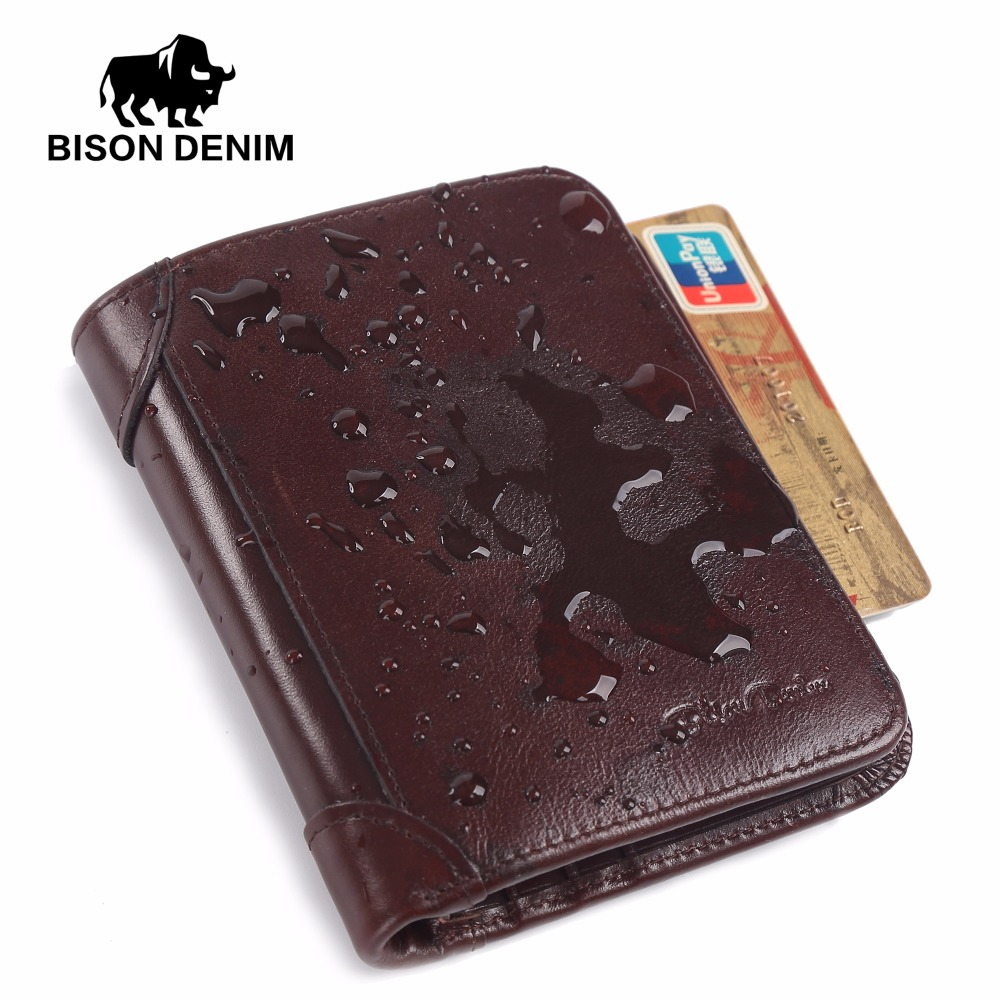monedero: (63, 162, 926, 978)
